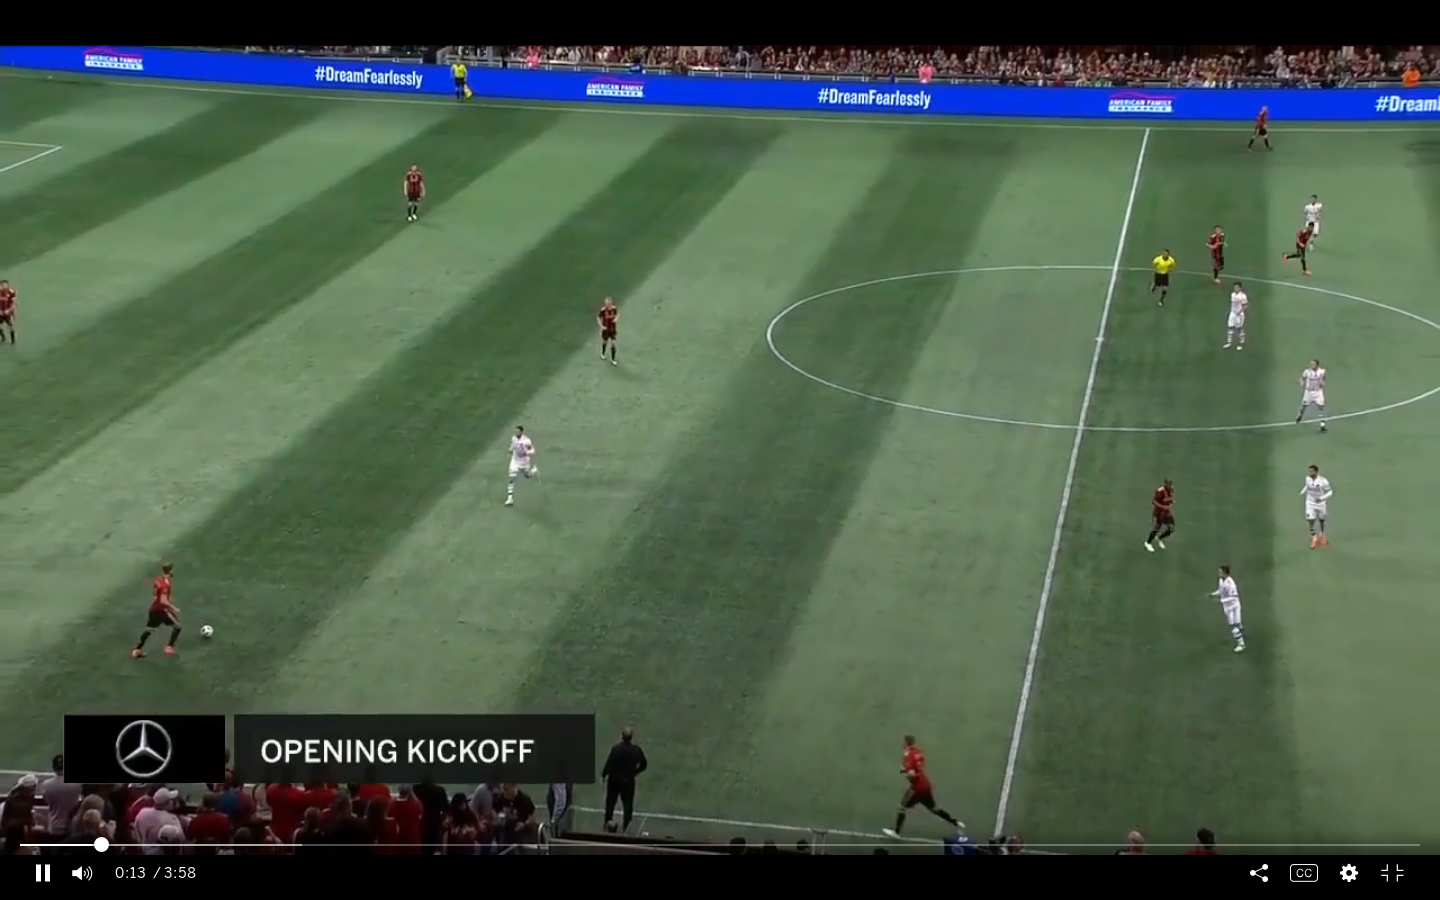referee: (1145, 242, 1175, 306)
soccer player: (881, 732, 967, 839), (132, 559, 185, 666), (1201, 565, 1248, 651), (1299, 462, 1336, 552), (1293, 359, 1335, 434), (1147, 471, 1182, 551), (505, 422, 541, 496), (395, 163, 435, 228), (1222, 282, 1250, 357), (595, 291, 622, 366), (1205, 223, 1230, 291), (1282, 222, 1316, 272), (1247, 103, 1276, 154), (1304, 191, 1330, 243), (1, 288, 22, 349)
soccerball: (195, 619, 222, 645)
